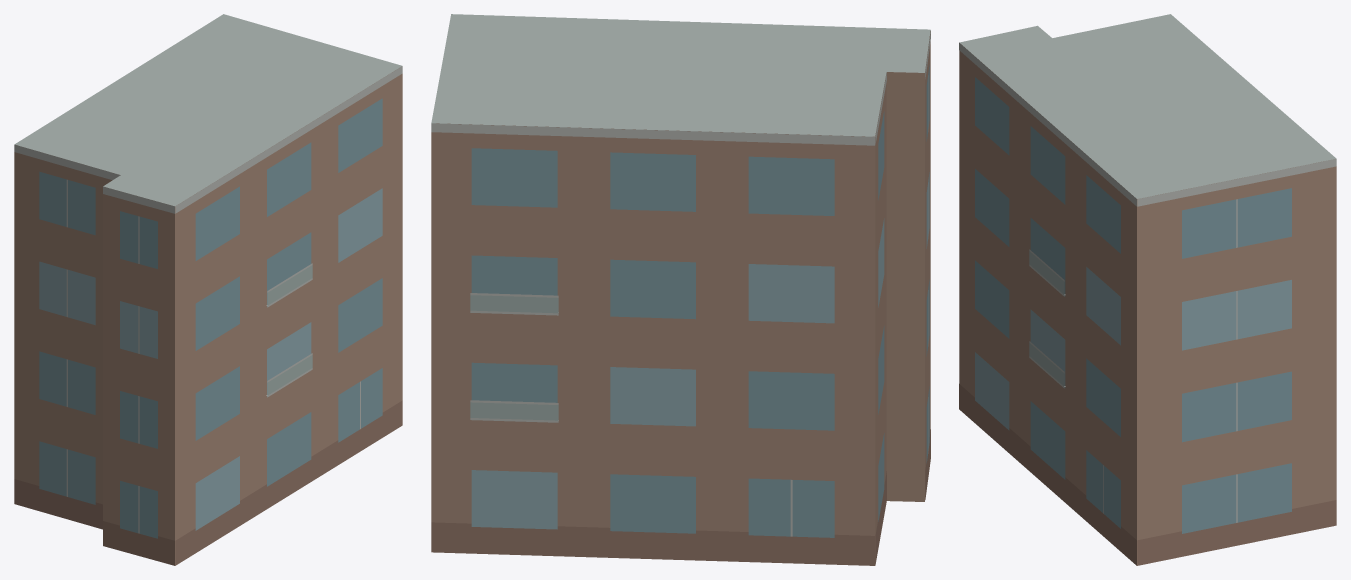
Rendered from survey-upis-32743832.glb.
The picture shows the model from 3 angles, left to right: view 1: azimuth 30°, elevation 25°; view 2: azimuth 150°, elevation 25°; view 3: azimuth 270°, elevation 25°; orthographic projection. The views are drawn at different scales.
Parts seen in each view (by area): view 1: survey-upis-32743832.tmp; view 2: survey-upis-32743832.tmp; view 3: survey-upis-32743832.tmp.
Part boxes in pixels (left/top/right/bottom): survey-upis-32743832.tmp: left=14, top=14, right=402, bottom=565; survey-upis-32743832.tmp: left=431, top=14, right=930, bottom=565; survey-upis-32743832.tmp: left=959, top=14, right=1336, bottom=565.
Size of the model in its own units: 12.62 by 11.65 by 10.88.
